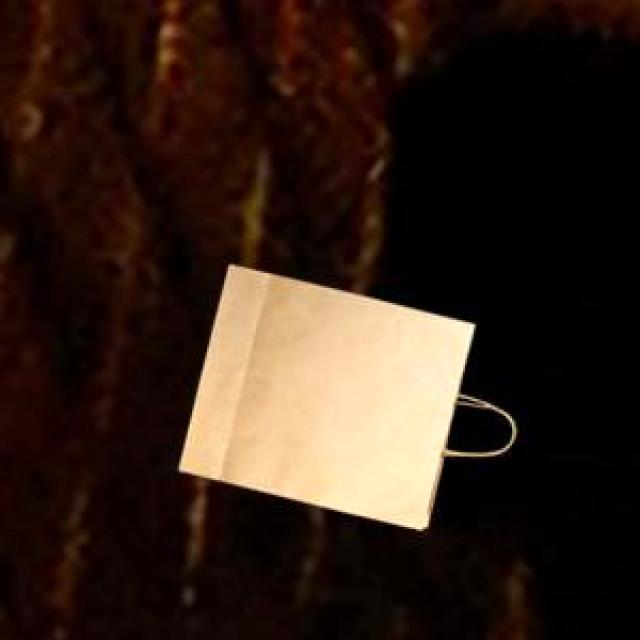Paper_Bag: (175, 261, 470, 526)
